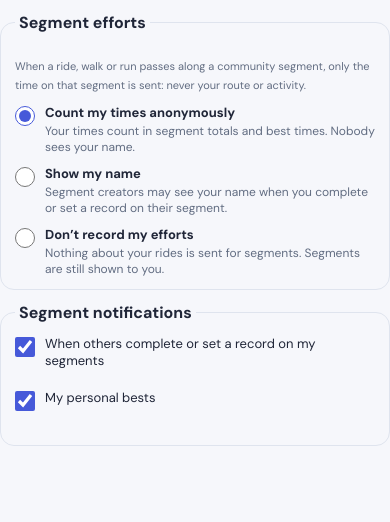
Test: loads and saves segment notification preferences, and restores the box when saving fails
Click the checkbox labelled "When others complete or set a record on my segments" at (25, 347), box [15,337,35,357]
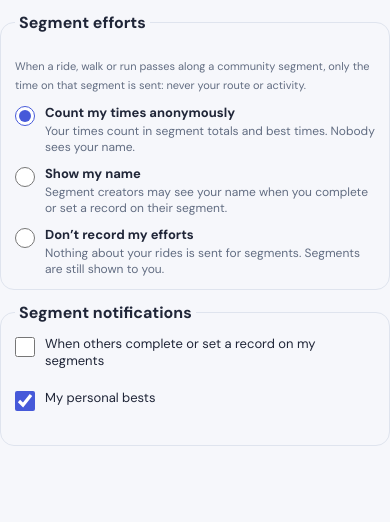
Now the checkbox labelled "When others complete or set a record on my segments" is not checked, box [15,337,35,357]
Click the checkbox labelled "My personal bests" at (25, 401), box [15,391,35,411]
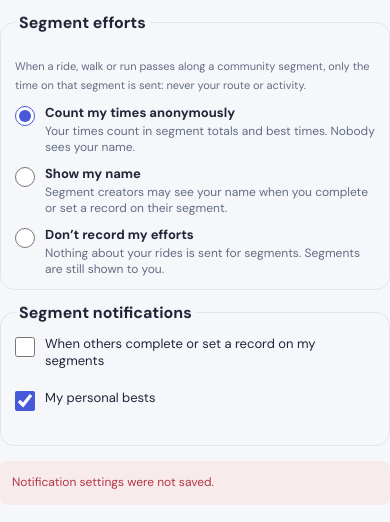
Now the message reads "Notification settings were not saved.", box [12,474,214,490]
